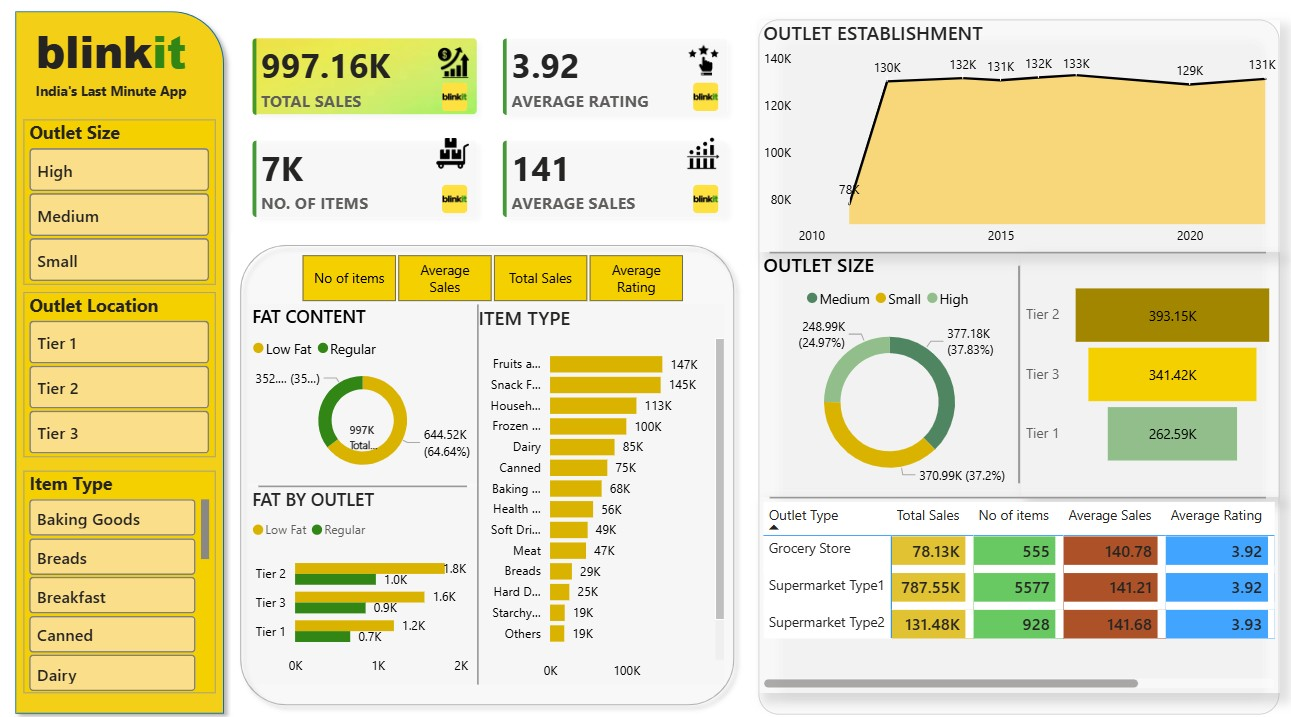

This screenshot's page, from the dashboard's own definition file:
{"tool":"powerbi","page":{"name":"Page 1","canvas":[1280,720],"ordinal":0},"visuals":[{"type":"shape","box":[750.8,31.8,509.9,679.9],"z":0},{"type":"shape","box":[15.1,15.1,222.3,705.3],"z":1000},{"type":"textbox","box":[31.8,31.8,171.2,88],"z":2000},{"type":"textbox","box":[275.8,317,70,42.5],"z":3000},{"type":"cardVisual","fields":{"Data":["BlinkIT Grocery Data.Total Sales","BlinkIT Grocery Data.Average Rating","BlinkIT Grocery Data.No of items","BlinkIT Grocery Data.Average Sales"]},"box":[237.2,31.8,501.4,211.6],"z":4000},{"type":"shape","box":[234.8,243.3,501.4,468.3],"z":5000},{"type":"slicer","fields":{"Values":["Matrix.Matrix"]},"box":[282.5,259.2,414.5,51.4],"z":6000},{"type":"clusteredBarChart","title":"FAT BY OUTLET","fields":{"Y":["BlinkIT Grocery Data.No of items"],"Series":["BlinkIT Grocery Data.Item Fat Content"],"Category":["BlinkIT Grocery Data.Outlet Location Type"]},"box":[250.7,489.1,226.2,193.2],"z":7000},{"type":"donutChart","title":"FAT CONTENT","fields":{"Y":["BlinkIT Grocery Data.Total Sales"],"Category":["BlinkIT Grocery Data.Item Fat Content"]},"box":[250.7,310.6,226.2,174.9],"z":8000},{"type":"cardVisual","fields":{"Data":["BlinkIT Grocery Data.Total Sales"]},"box":[332.6,408.4,64.8,64.8],"z":9000},{"type":"lineChart","title":"OUTLET ESTABLISHMENT","fields":{"Y":["BlinkIT Grocery Data.Total Sales"],"Category":["BlinkIT Grocery Data.Outlet Establishment Year"]},"box":[750.8,31.8,510,227.4],"z":10000},{"type":"funnel","fields":{"Category":["BlinkIT Grocery Data.Outlet Location Type"],"Y":["BlinkIT Grocery Data.Total Sales"]},"box":[1007.6,259.2,253,239.7],"z":11000},{"type":"pivotTable","fields":{"Rows":["BlinkIT Grocery Data.Outlet Type"],"Values":["BlinkIT Grocery Data.Total Sales","BlinkIT Grocery Data.No of items","BlinkIT Grocery Data.Average Sales","BlinkIT Grocery Data.Average Rating","Sum(BlinkIT Grocery Data.Item Visibility)"]},"box":[750.8,498.9,510,192],"z":12000},{"type":"advancedSlicerVisual","title":"Outlet Size","fields":{"Values":["BlinkIT Grocery Data.Outlet Size"]},"box":[31.8,129.6,188.3,161.4],"z":13000},{"type":"clusteredBarChart","title":"ITEM TYPE","fields":{"Category":["BlinkIT Grocery Data.Item Type"],"Y":["Sum(BlinkIT Grocery Data.Sales)"]},"box":[476.9,310.6,239.7,371.7],"z":14000},{"type":"donutChart","title":"OUTLET SIZE","fields":{"Category":["BlinkIT Grocery Data.Outlet Size"],"Y":["BlinkIT Grocery Data.Total Sales"]},"box":[750.8,259.2,256.8,239.7],"z":15000},{"type":"advancedSlicerVisual","title":"Outlet Location","fields":{"Values":["BlinkIT Grocery Data.Outlet Location Type"]},"box":[31.8,298.4,188.3,161.4],"z":16000},{"type":"advancedSlicerVisual","title":"Item Type","fields":{"Values":["BlinkIT Grocery Data.Item Type"]},"box":[31.8,473.2,188.3,217.7],"z":17000},{"type":"image","box":[431.7,58.7,41.6,30],"z":18000},{"type":"image","box":[426.8,146.7,50.1,32],"z":19000},{"type":"image","box":[677.4,56.3,39.1,30],"z":20000},{"type":"image","box":[677.4,146.7,39.1,32],"z":21000},{"type":"shape","box":[326.5,310.6,299.6,371.7],"z":22000},{"type":"shape","box":[261.7,338.7,204.2,299.6],"z":23000},{"type":"shape","box":[856,272.7,299.6,212.8],"z":24000},{"type":"shape","box":[761.8,110.1,485.5,299.6],"z":25000},{"type":"shape","box":[761.8,349.7,485.5,299.6],"z":26000}]}

Visuals, with their boxes in screenshot pixels (x1, y1, x2, y2), scaled from the page's 1280x720 canvas onto the 1291x717 screenshot:
shape: 757/32/1272/709
shape: 15/15/239/716
textbox: 32/32/205/119
textbox: 278/316/349/358
cardVisual - BlinkIT Grocery Data.Total Sales x BlinkIT Grocery Data.Average Rating: 239/32/745/242
shape: 237/242/743/709
slicer - Matrix.Matrix: 285/258/703/309
"FAT BY OUTLET" clusteredBarChart: 253/487/481/679
"FAT CONTENT" donutChart: 253/309/481/483
cardVisual - BlinkIT Grocery Data.Total Sales: 335/407/401/471
"OUTLET ESTABLISHMENT" lineChart: 757/32/1272/258
funnel - BlinkIT Grocery Data.Outlet Location Type x BlinkIT Grocery Data.Total Sales: 1016/258/1271/497
pivotTable - BlinkIT Grocery Data.Outlet Type x BlinkIT Grocery Data.Total Sales: 757/497/1272/688
"Outlet Size" advancedSlicerVisual: 32/129/222/290
"ITEM TYPE" clusteredBarChart: 481/309/723/679
"OUTLET SIZE" donutChart: 757/258/1016/497
"Outlet Location" advancedSlicerVisual: 32/297/222/458
"Item Type" advancedSlicerVisual: 32/471/222/688
image: 435/58/477/88
image: 430/146/481/178
image: 683/56/723/86
image: 683/146/723/178
shape: 329/309/631/679
shape: 264/337/470/636
shape: 863/272/1166/483
shape: 768/110/1258/408
shape: 768/348/1258/647
